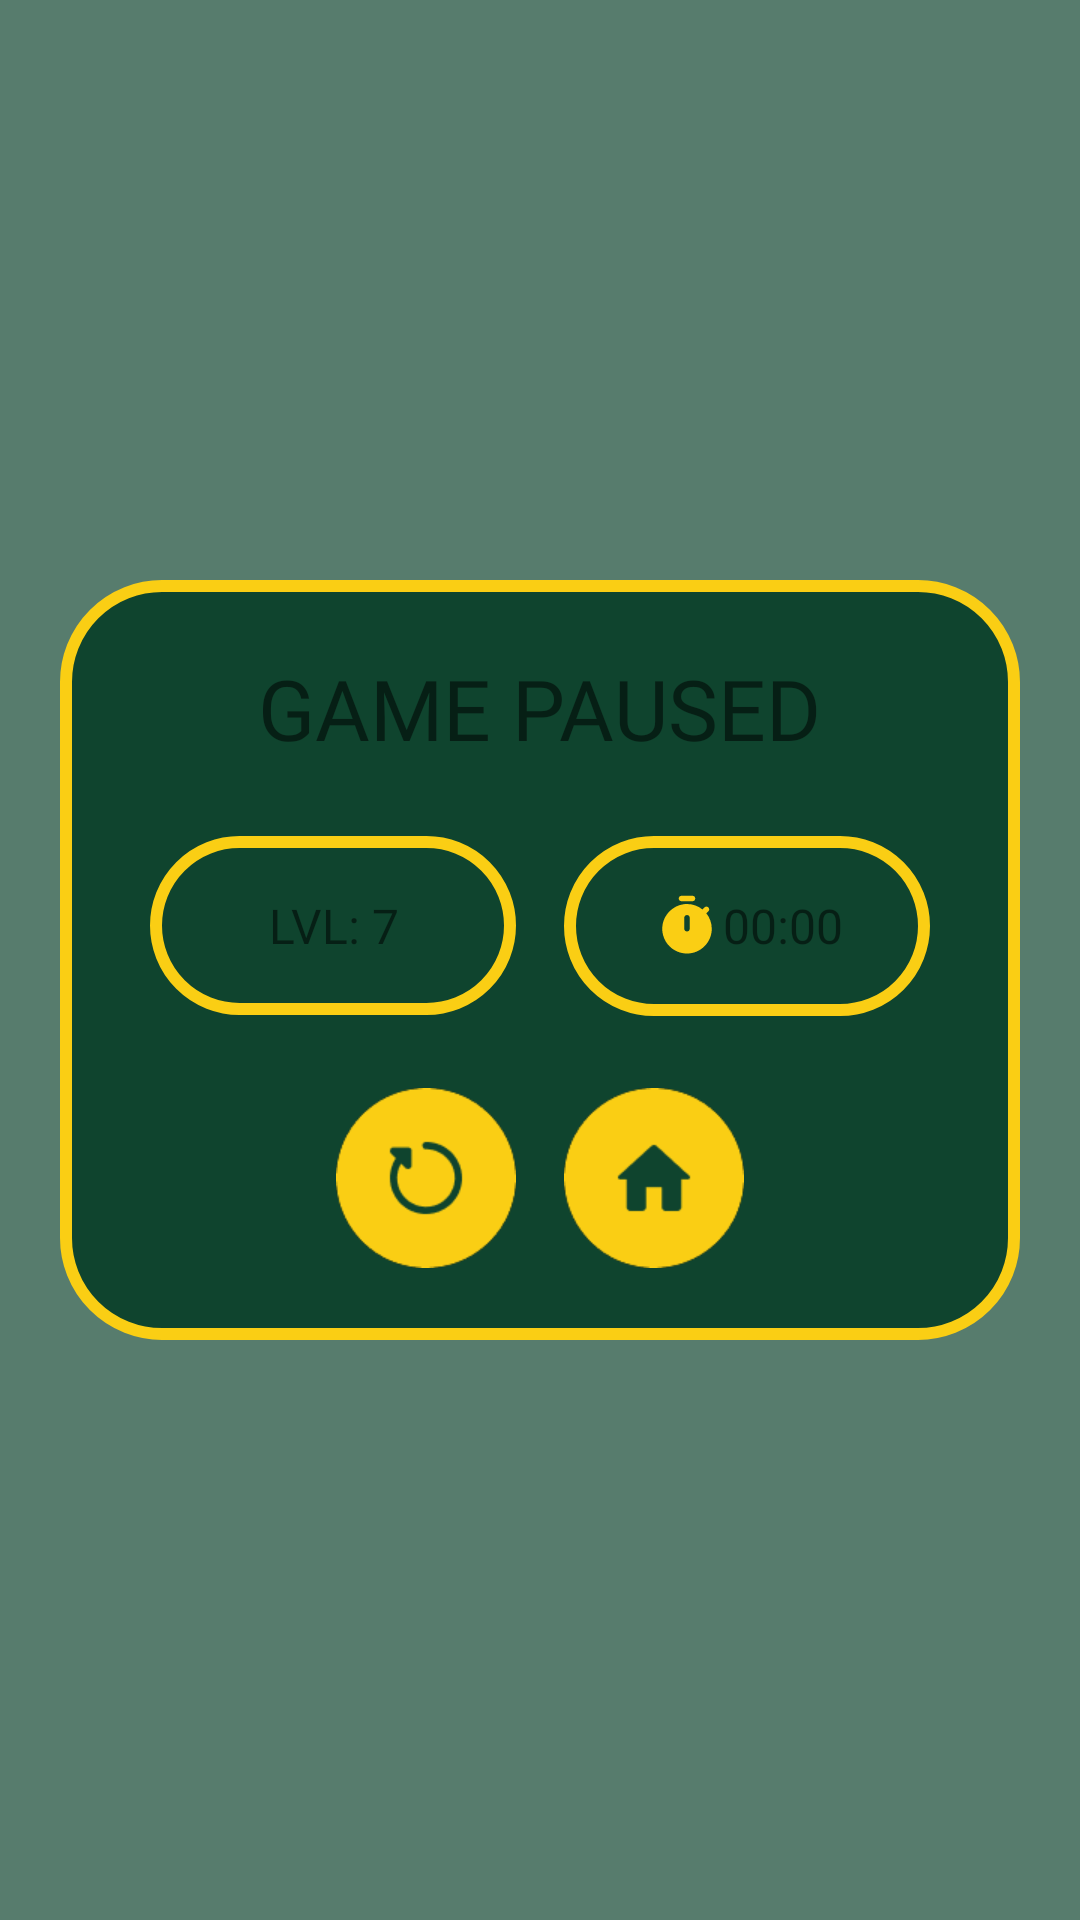

Screen size 1080px×1920px. Icon name, then its box in pixels as (x1, y1, x2, y2):
Home: (564, 1088, 744, 1268)
Replay: (336, 1088, 516, 1268)
timer: (662, 895, 712, 954)
